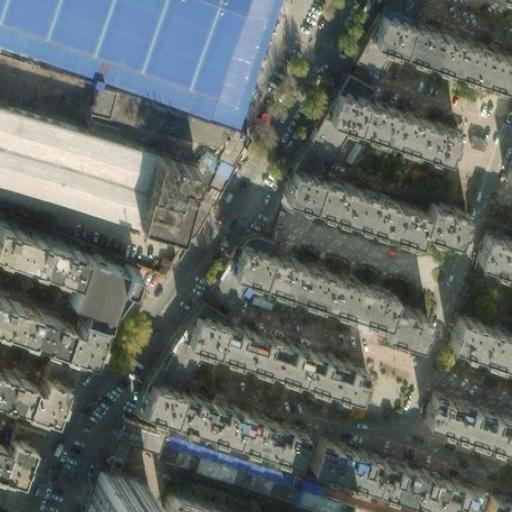building: (127, 225, 269, 421), (230, 242, 431, 343), (148, 424, 337, 512), (183, 309, 367, 396), (272, 166, 462, 244), (308, 436, 477, 512), (139, 377, 301, 456), (361, 7, 512, 81), (320, 90, 449, 159), (96, 85, 222, 155), (283, 73, 359, 176), (0, 62, 92, 134), (0, 292, 99, 351), (424, 390, 512, 446), (137, 155, 194, 236), (65, 245, 132, 302), (449, 318, 512, 373), (75, 467, 141, 512), (159, 483, 256, 512), (0, 364, 60, 407), (327, 487, 413, 512), (476, 232, 512, 277), (0, 426, 29, 473), (483, 493, 512, 512)
